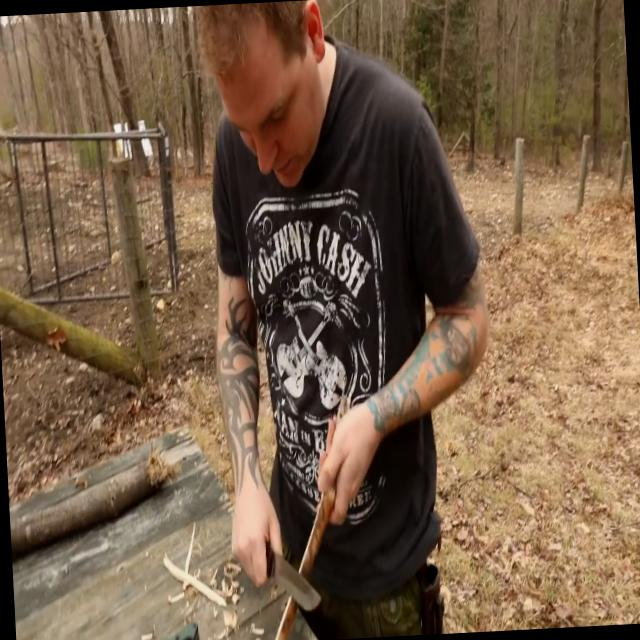knife: (227, 509, 328, 626)
